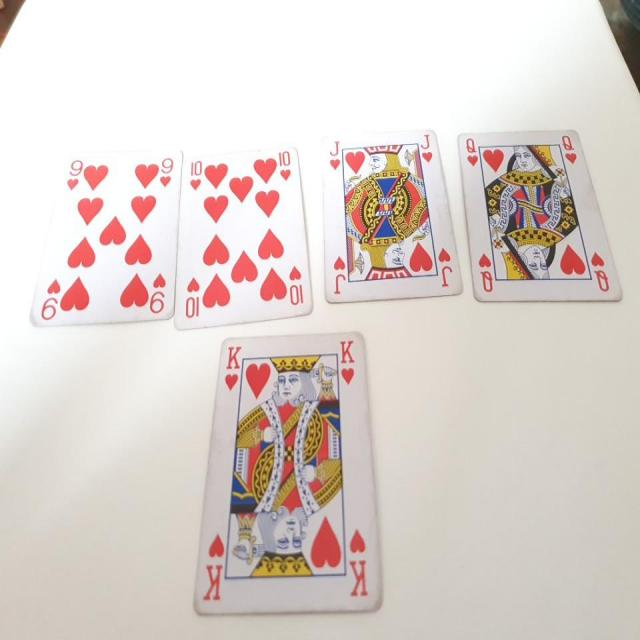10 Hearts: (180, 146, 314, 333)
9 Hearts: (27, 146, 186, 333)
J Hearts: (311, 122, 464, 301)
K Hearts: (191, 327, 388, 619)
Q Hearts: (455, 119, 624, 318)
